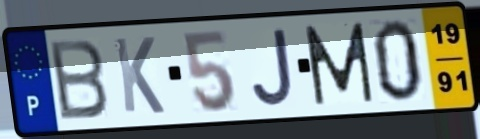0: (370, 17, 426, 104)
5: (179, 27, 238, 115)
B: (45, 36, 111, 123)
J: (249, 26, 296, 109)
K: (111, 34, 167, 116)
M: (301, 19, 377, 108)
